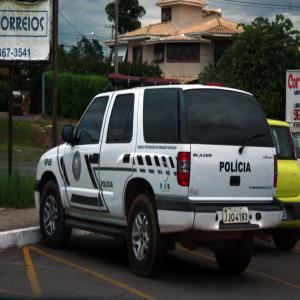Vehicle-registration-plate: (224, 207, 249, 224), (283, 210, 288, 221)
